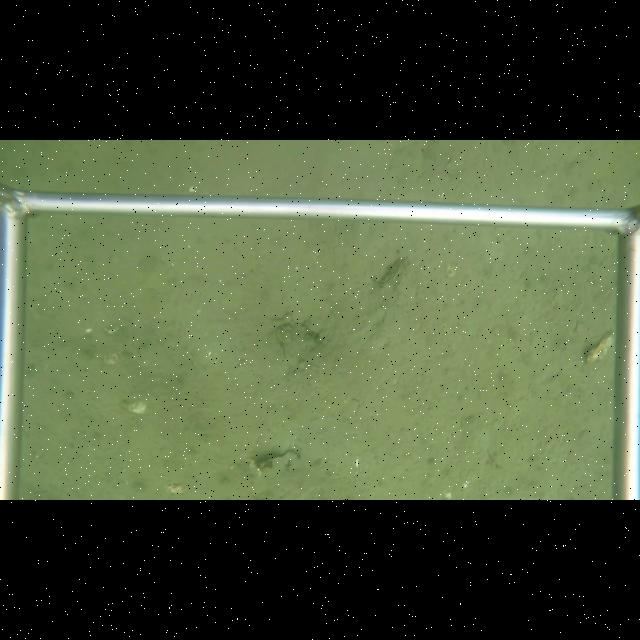Oyster-Closed: (387, 258, 407, 282)
Oyster-Open: (264, 449, 300, 473)
